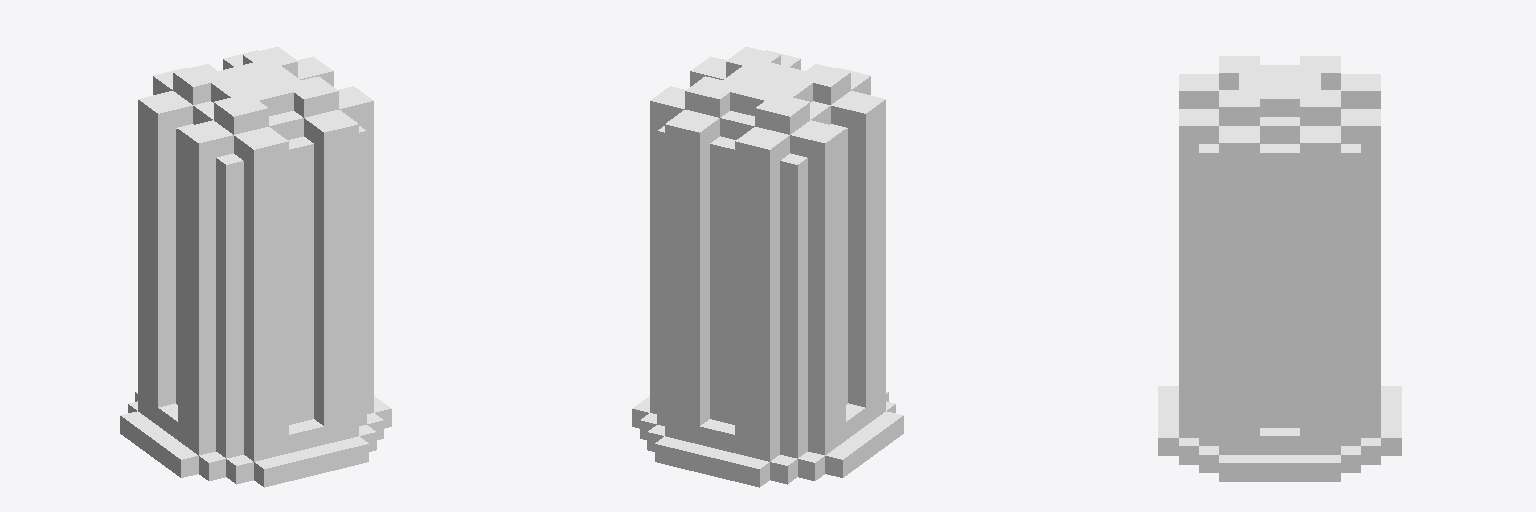
Rendered from tower3-1.obj.
The picture shows the model from 3 angles: view 1: azimuth 30°, elevation 25°; view 2: azimuth 150°, elevation 25°; view 3: azimuth 270°, elevation 25°; orthographic projection.
Parts seen in each view (by area): view 1: object 1; view 2: object 1; view 3: object 1.
Part boxes in pixels (x1,y1,x2,y2): object 1: (120, 47, 391, 487); object 1: (632, 47, 903, 487); object 1: (1158, 56, 1401, 481).
Size of the model in its own units: 1.2 by 1.9 by 1.2.